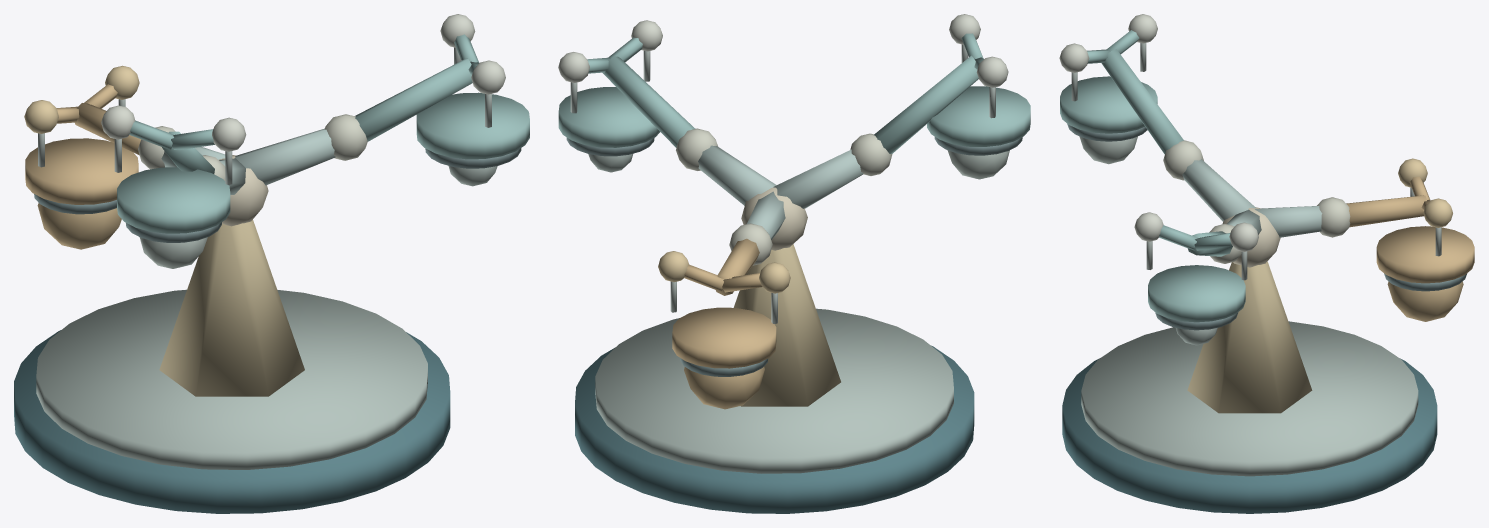
Rendered from ART-46.glb.
3 views of the same model, side by side, from view 1: azimuth 30°, elevation 25°; view 2: azimuth 150°, elevation 25°; view 3: azimuth 270°, elevation 25° (orthographic). The views are drawn at different scales.
Parts seen in each view (by area): view 1: world; view 2: world; view 3: world.
Part boxes in pixels (left/top/right/bottom): world: left=14, top=14, right=529, bottom=513; world: left=558, top=14, right=1030, bottom=513; world: left=1059, top=14, right=1474, bottom=513.
Size of the model in its own units: 2 by 1.71 by 1.86.
